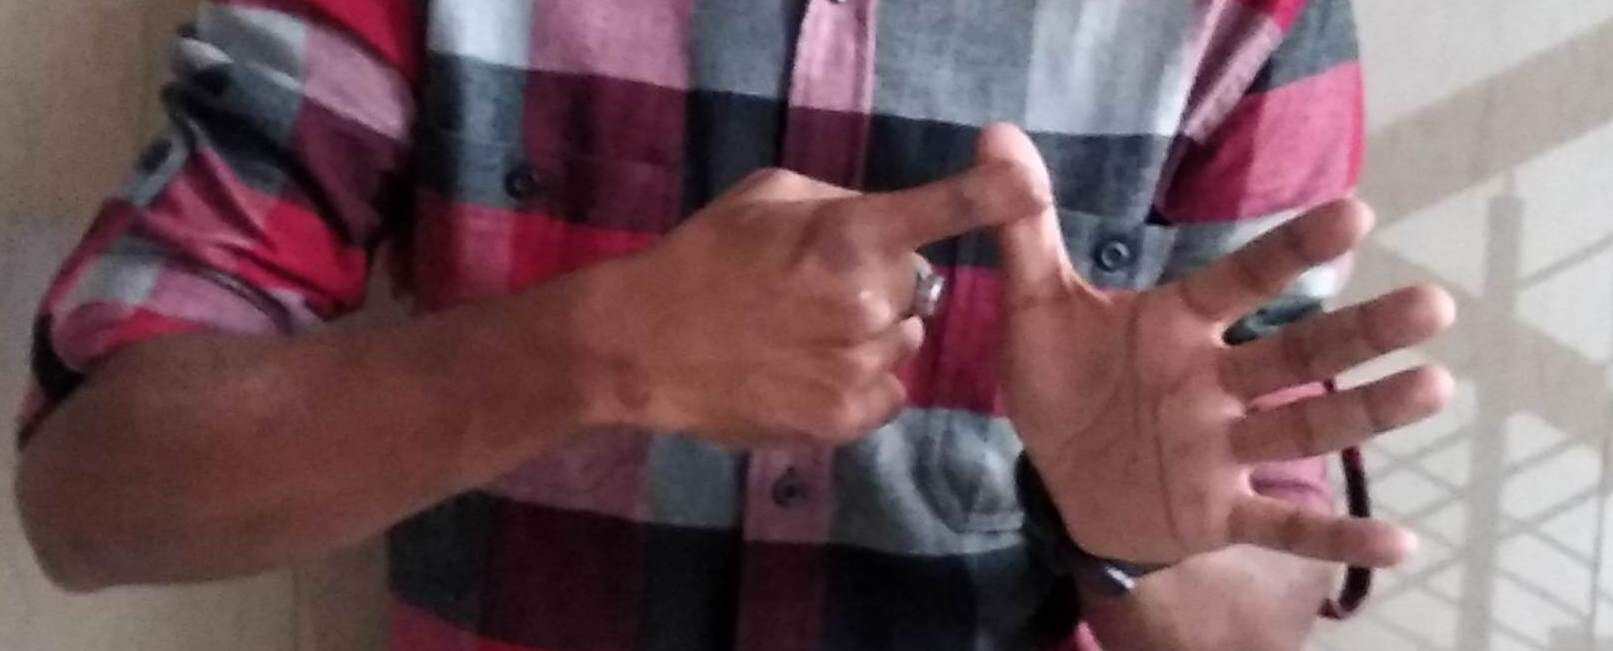a: (639, 143, 1433, 570)
